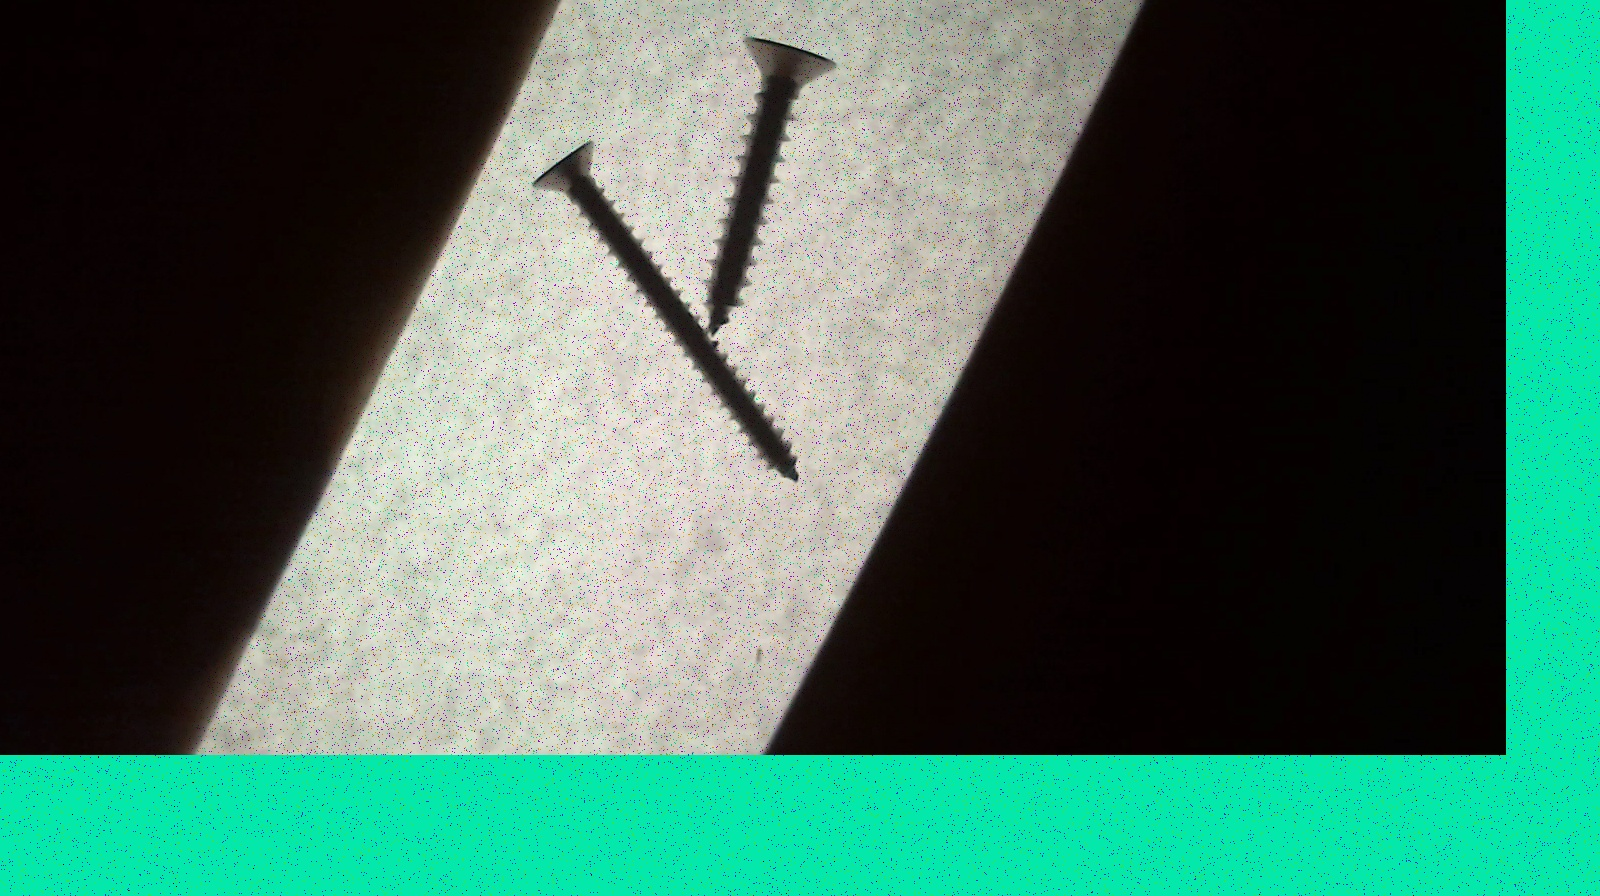S001: (701, 32, 838, 334)
S002: (529, 139, 807, 486)
